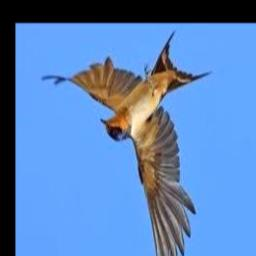Swallow: (42, 29, 214, 256)
